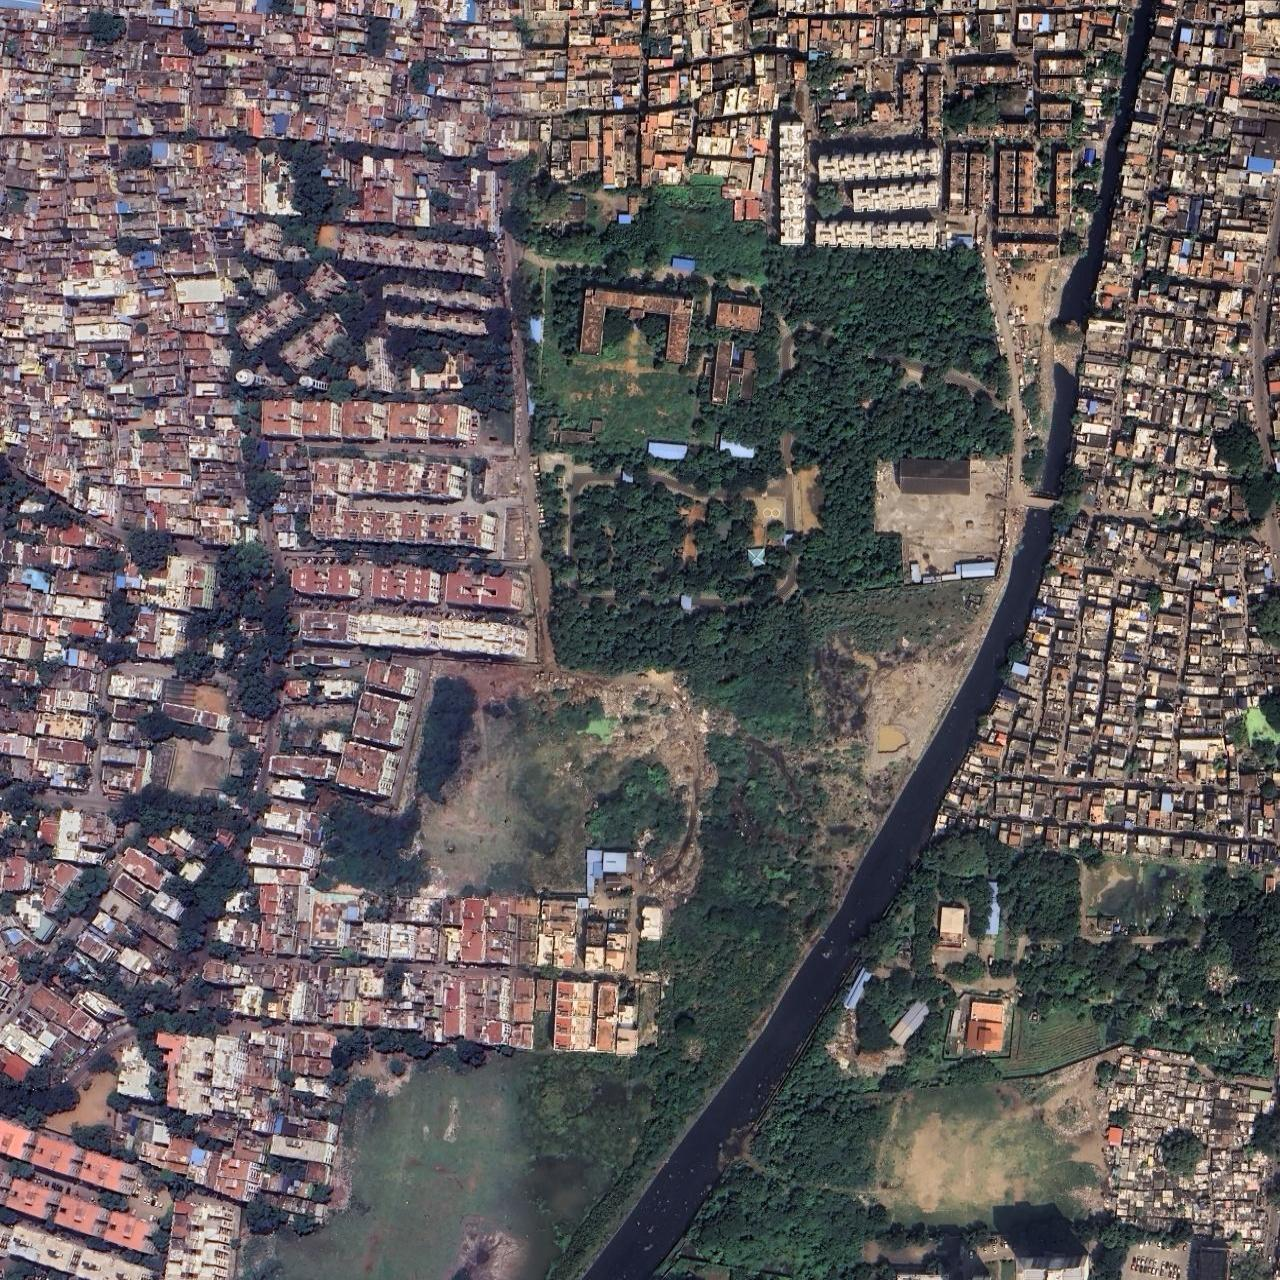greenery: (241, 157, 1020, 1280), (658, 822, 1279, 1280)
house: (0, 138, 640, 1278), (0, 2, 1139, 320), (1105, 1065, 1275, 1241)
water: (574, 2, 1169, 1280)
